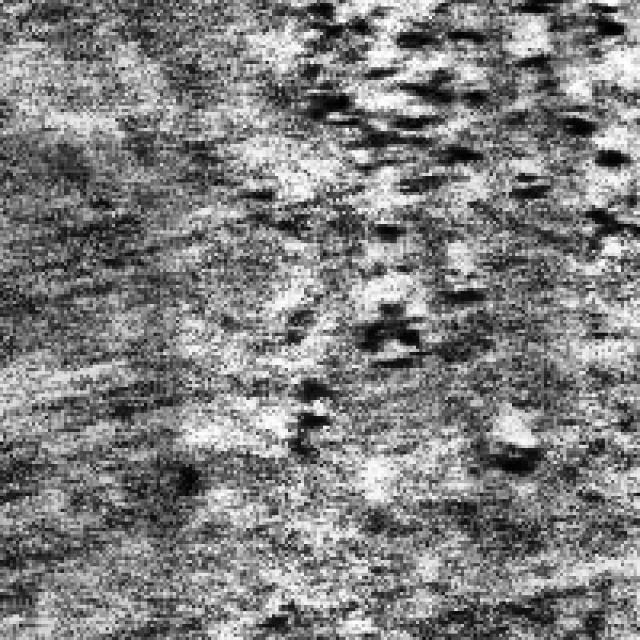Crazing: (272, 0, 630, 202), (284, 291, 532, 467)
